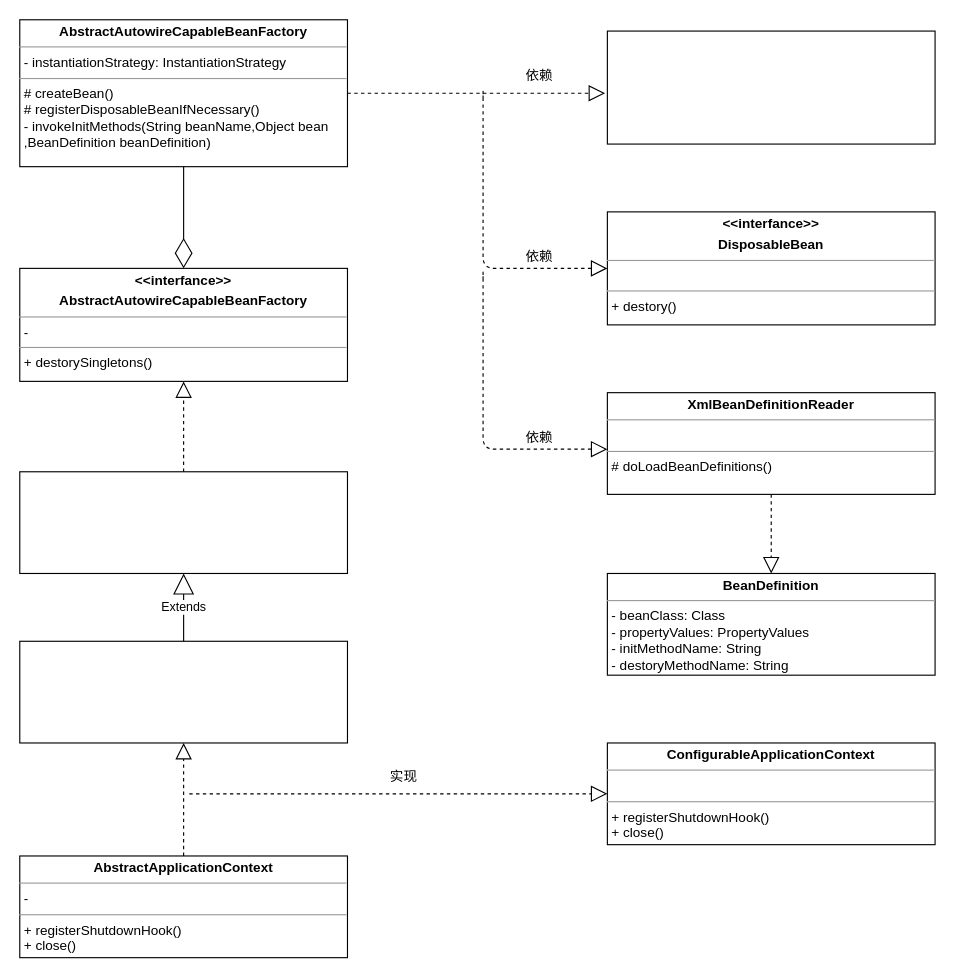
The diagram is 955 pixels wide and 977 high, and some of its shapes have lost their labels. The shapes that lost their labels are listed below. From the top down, each one's centre as x and y in pixels, then its label:
At point (770, 87): "<<interfance>> InitializingBean + afterPropertiesSet()".
At point (183, 522): "DefaultSingletonRegistry - + destorySingletons()".
At point (183, 691): "AbstractBeanFactory - +".
